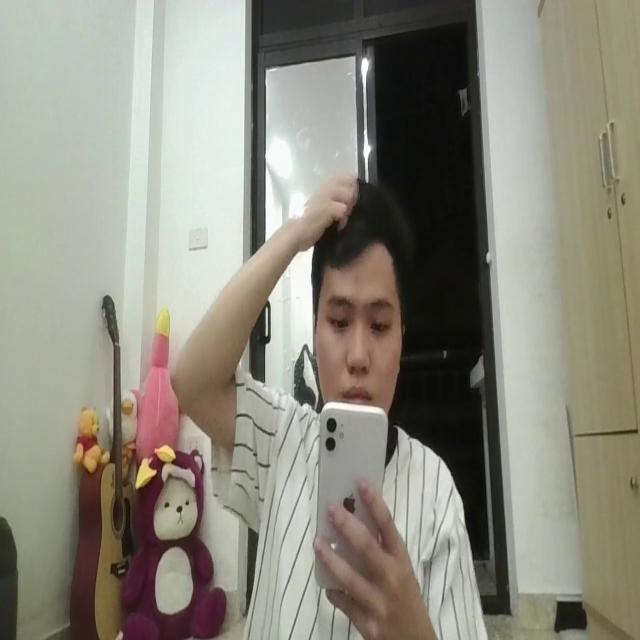phone: (316, 393, 389, 603)
student: (174, 166, 488, 640)
